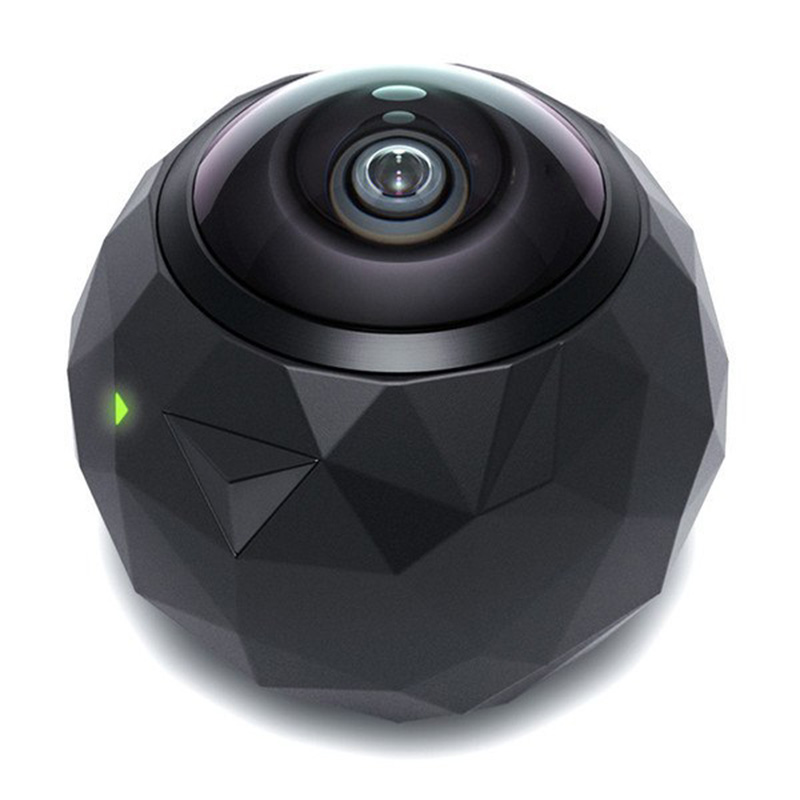Helmet: (56, 50, 750, 729)
